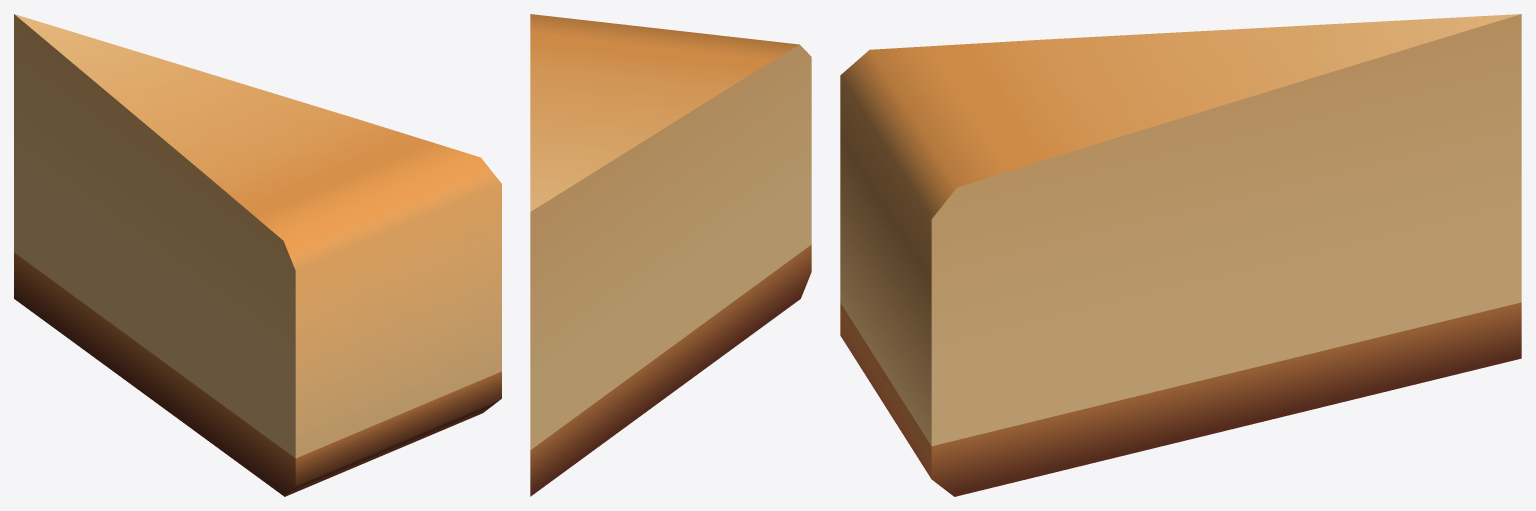
Rendered from m_NewYorkCheeseCake01_Slice.fbx.
The picture shows the model from 3 angles, left to right: view 1: azimuth 30°, elevation 25°; view 2: azimuth 150°, elevation 25°; view 3: azimuth 270°, elevation 25°; orthographic projection. The views are drawn at different scales.
Parts seen in each view (by area): view 1: m_NewYorkCheeseCake01_Slice; view 2: m_NewYorkCheeseCake01_Slice; view 3: m_NewYorkCheeseCake01_Slice.
Boxes of the visible parts, x1,y1,x2,y2 form: m_NewYorkCheeseCake01_Slice: [14, 14, 501, 496]; m_NewYorkCheeseCake01_Slice: [530, 14, 811, 496]; m_NewYorkCheeseCake01_Slice: [840, 14, 1521, 496].
Bounding box in the file's own units: 7 × 7.81 × 14.
